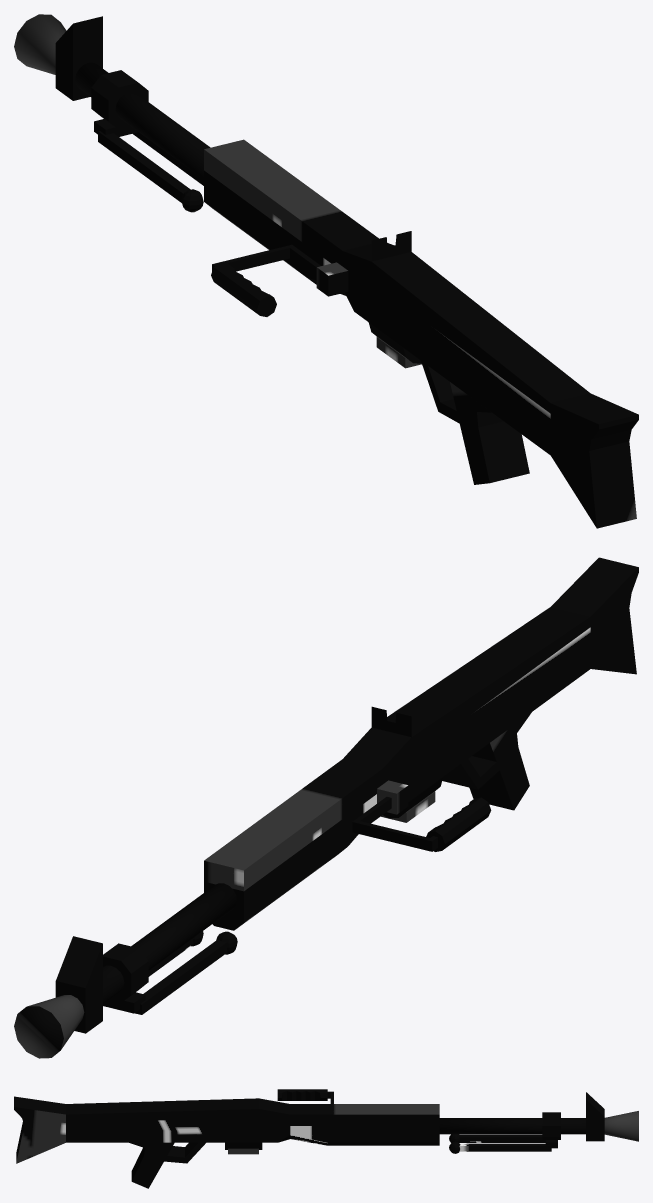
File: heavy_lunatic_rifle.obj
3 renders of one model, top to bottom at view 1: azimuth 30°, elevation 25°; view 2: azimuth 150°, elevation 25°; view 3: azimuth 270°, elevation 25°, orthographic. The views are drawn at different scales.
Visible parts, largest first — view 1: Barrel_heat_vent_Cube.010; view 2: Barrel_heat_vent_Cube.010; view 3: Barrel_heat_vent_Cube.010.
Boxes of the visible parts, x1,y1,x2,y2 form: Barrel_heat_vent_Cube.010: (14, 14, 638, 528); Barrel_heat_vent_Cube.010: (14, 557, 638, 1058); Barrel_heat_vent_Cube.010: (14, 1089, 638, 1188).
Bounding box in the file's own units: 7.2 × 8.08 × 50.18.
